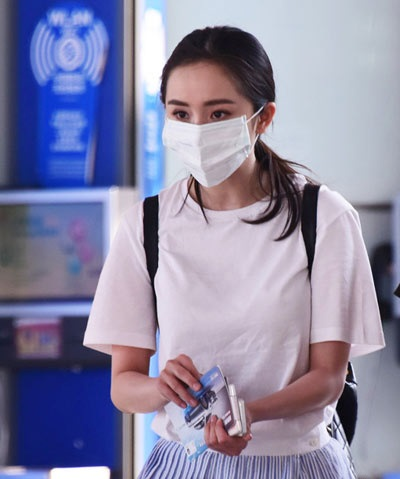face_mask: (164, 61, 252, 190)
